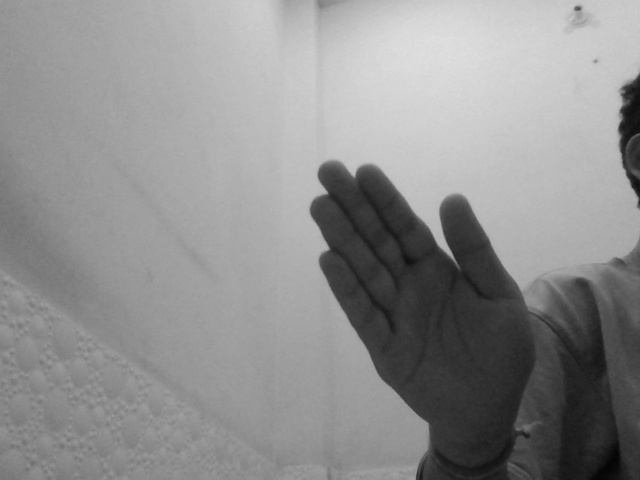Hello: (307, 153, 537, 435)
